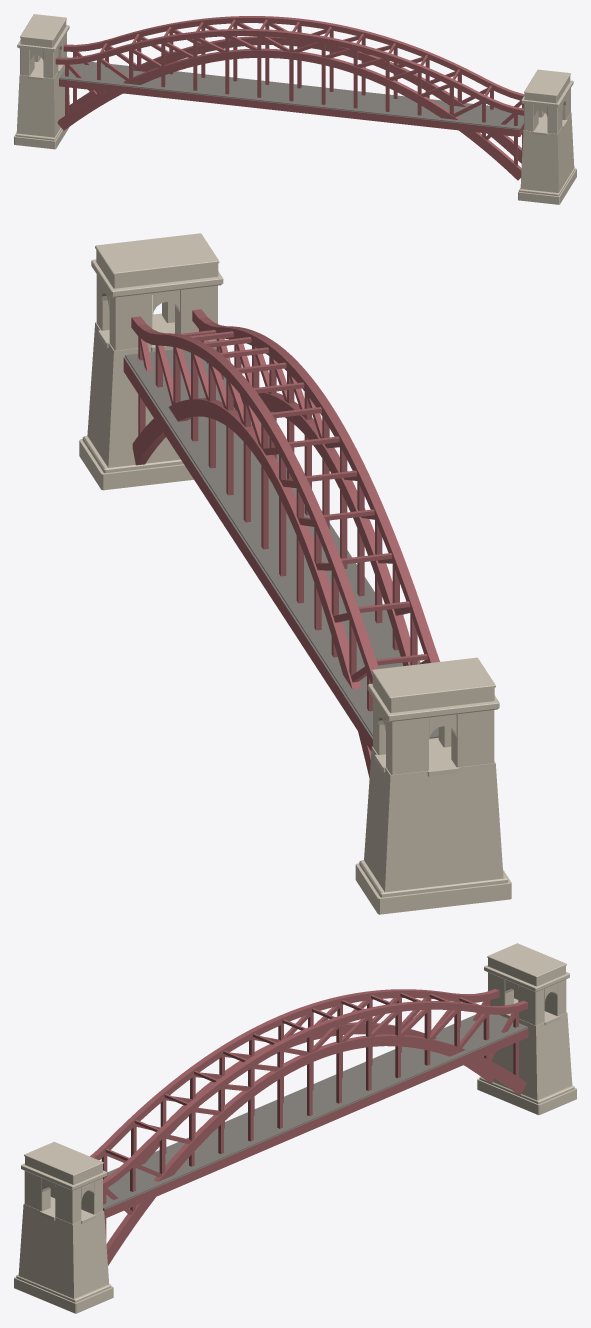
The picture shows the model from 3 angles, top to bottom: view 1: azimuth 30°, elevation 25°; view 2: azimuth 150°, elevation 25°; view 3: azimuth 270°, elevation 25°; orthographic projection. The views are drawn at different scales.
Visible parts, largest first — view 1: hell-gate-bridge; view 2: hell-gate-bridge; view 3: hell-gate-bridge.
Part boxes in pixels (left/top/right/bottom): hell-gate-bridge: left=14, top=14, right=576, bottom=204; hell-gate-bridge: left=79, top=233, right=511, bottom=914; hell-gate-bridge: left=14, top=943, right=576, bottom=1313.
Size of the model in its own units: 285 by 94.2 by 282.
